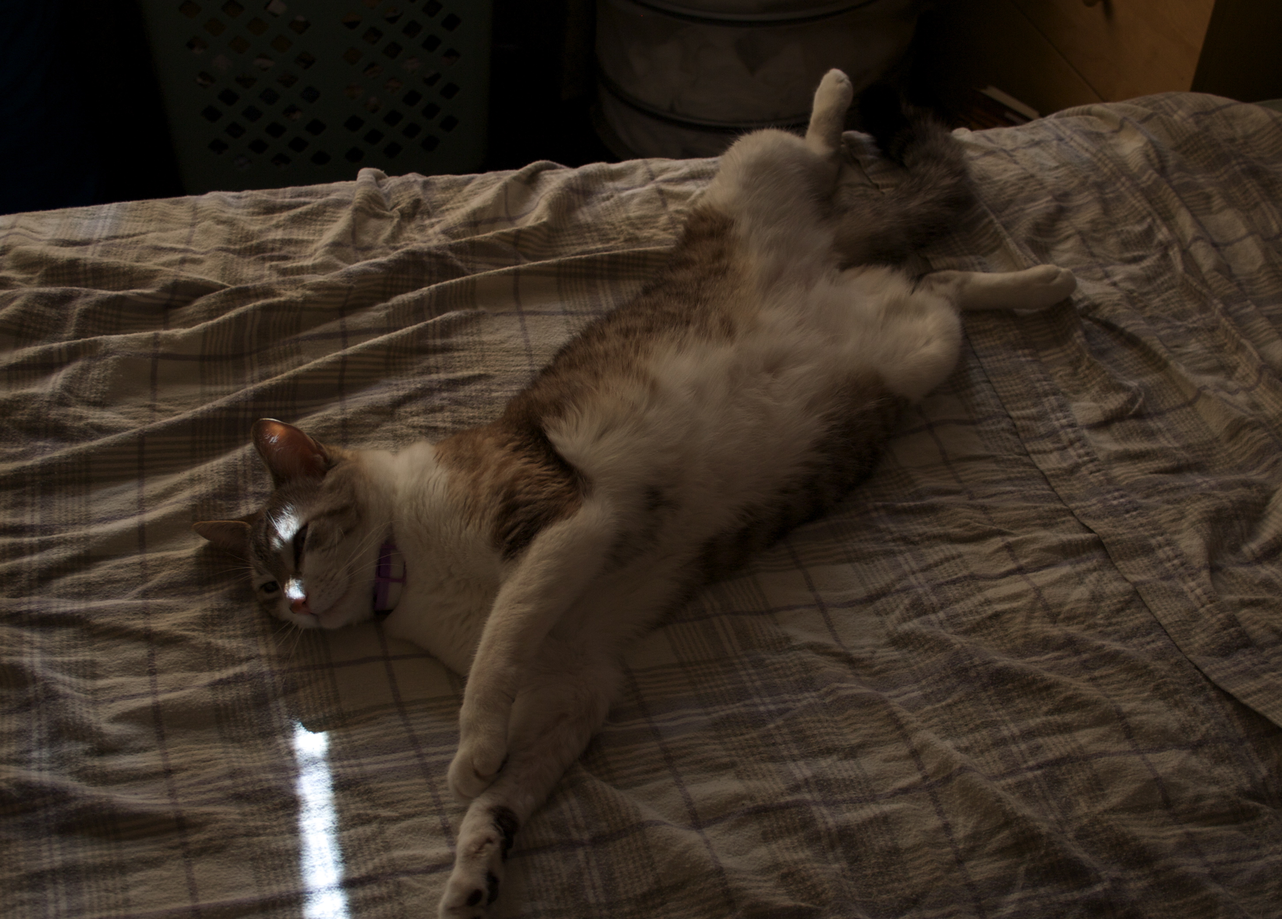cat: (191, 68, 1078, 918)
